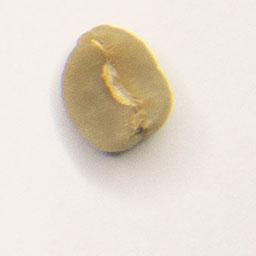premium: (57, 21, 176, 156)
